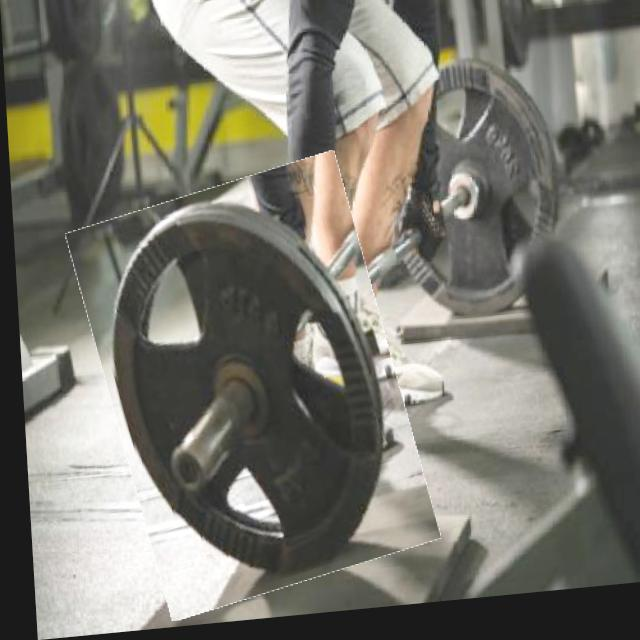barbell: (81, 165, 417, 618)
